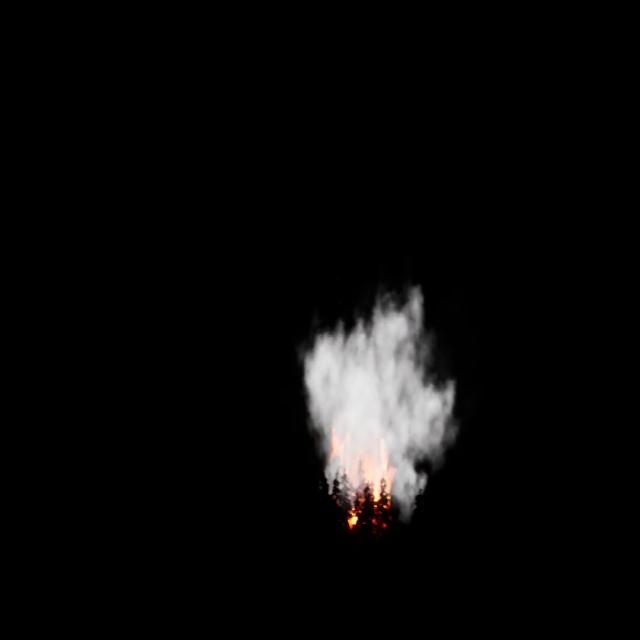fire: (324, 426, 398, 538)
smoke: (303, 282, 459, 514)
